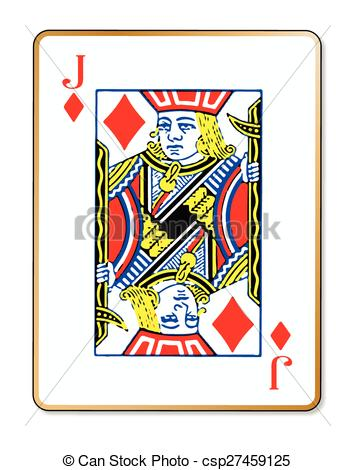jack of diamonds: (31, 34, 317, 413)
